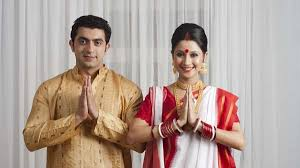men: (55, 11, 122, 80)
women: (159, 20, 215, 88)
